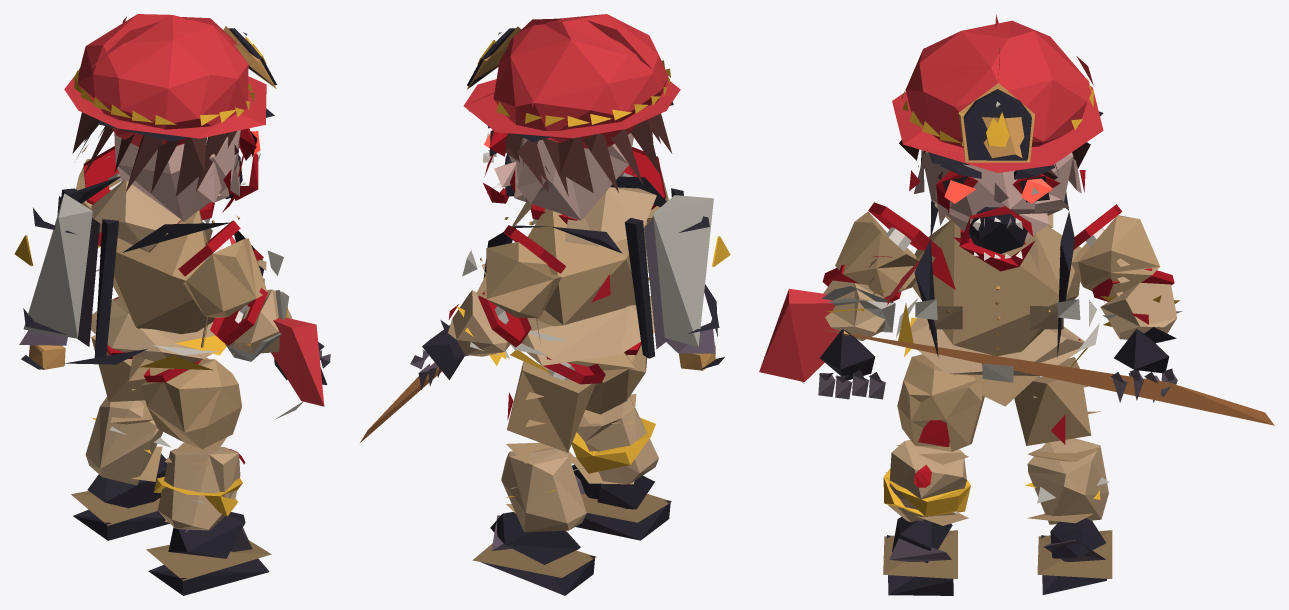
The model's file is inf.firefighter.lod2.glb.
3 views of the same model, side by side, from view 1: azimuth 30°, elevation 25°; view 2: azimuth 150°, elevation 25°; view 3: azimuth 270°, elevation 25° (orthographic). The views are drawn at different scales.
Parts seen in each view (by area): view 1: head, torso, backpackSocket, legR, footR, shinR, shinL, footL, armR, axe, foreArmR, legL (+4 smaller); view 2: head, torso, backpackSocket, shinL, footL, shinR, legL, footR, armL, foreArmL, legR, handL (+6 smaller); view 3: head, torso, axe, legR, shinR, shinL, footR, footL, armL, legL, armR, foreArmL (+6 smaller).
Boxes of the visible parts, box(x1,y1,x2,y2) form: head: box(64, 14, 276, 221); torso: box(64, 176, 283, 370); backpackSocket: box(14, 188, 118, 369); legR: box(140, 357, 241, 449); footR: box(146, 512, 271, 595); shinR: box(154, 437, 245, 530); shinL: box(85, 396, 171, 485); footL: box(71, 454, 169, 540); armR: box(183, 238, 266, 317); axe: box(229, 236, 324, 419); foreArmR: box(225, 289, 292, 361); legL: box(91, 334, 146, 401); head: box(463, 14, 680, 220); torso: box(462, 172, 717, 373); backpackSocket: box(624, 188, 730, 370); shinL: box(501, 442, 586, 532); footL: box(472, 512, 596, 595); shinR: box(571, 394, 658, 484); legL: box(507, 361, 595, 452); footR: box(572, 464, 671, 540); armL: box(476, 242, 561, 317); foreArmL: box(448, 290, 510, 365); legR: box(585, 345, 647, 414); handL: box(410, 320, 468, 389); head: box(892, 14, 1103, 271); torso: box(896, 192, 1104, 382); axe: box(759, 243, 1274, 425); legR: box(897, 354, 984, 451); shinR: box(883, 440, 970, 525); shinL: box(1025, 438, 1109, 524); footR: box(883, 516, 957, 595); footL: box(1037, 518, 1112, 594); armL: box(1071, 215, 1160, 296); legL: box(1014, 356, 1100, 445); armR: box(835, 211, 918, 297); foreArmL: box(1100, 282, 1182, 339).
Bounding box in the file's own units: 0.8611 × 1.78 × 1.54.
